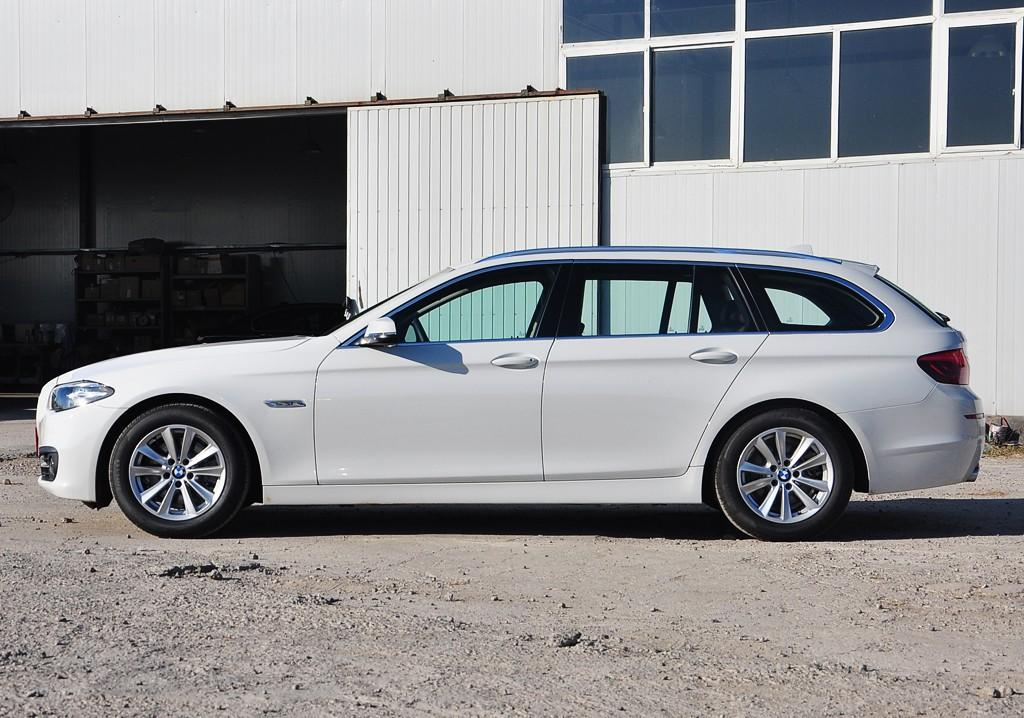Wagon: (34, 244, 986, 541)
